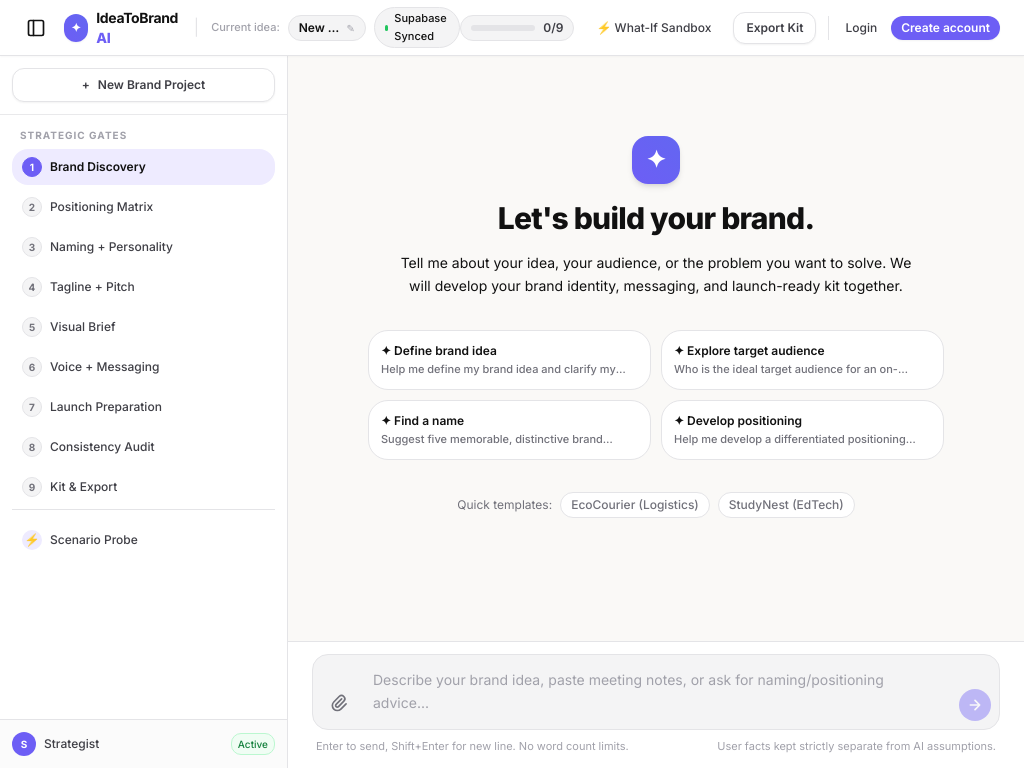
Test case: Conversational ChatWorkspace › has multiline textarea composer without arbitrary 500-word limit
Type a conversational message
Type "Help me build a brand." into the text box named "chat input message" at (658, 692), box [365,663,951,721]
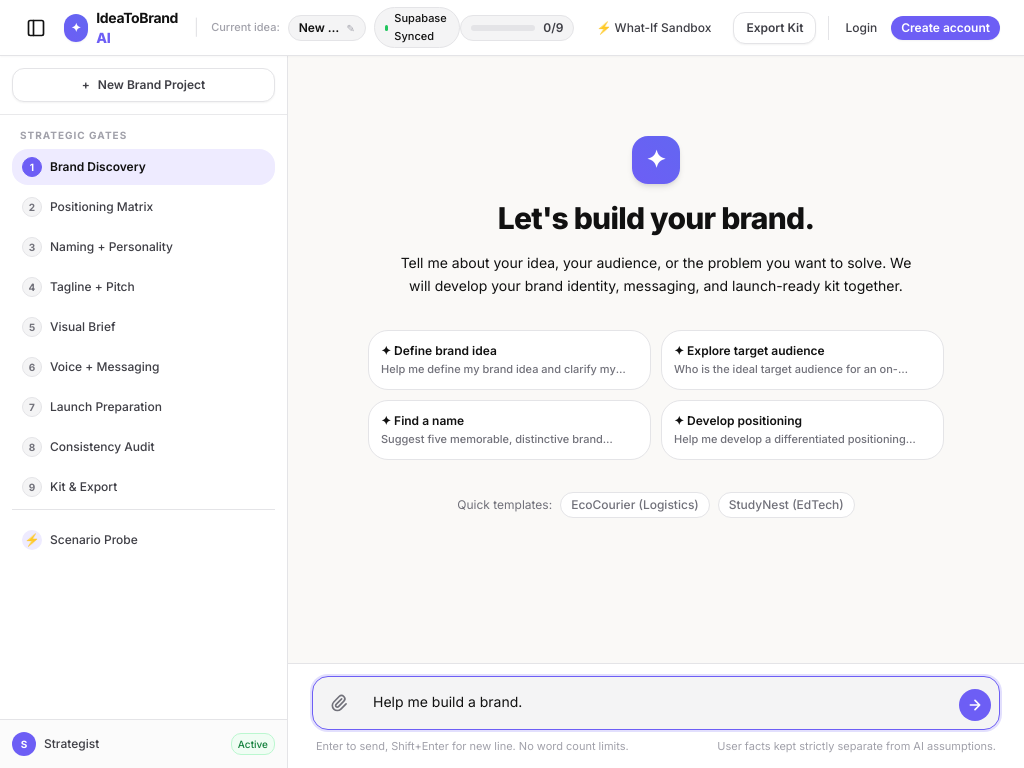
Result: the button named "send message" is enabled at [959,689,991,721]
